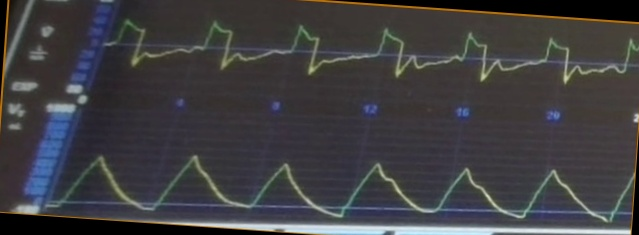Premature_cycling Flow: (108, 18, 638, 90)
Premature_cycling Volume: (59, 153, 630, 221)
